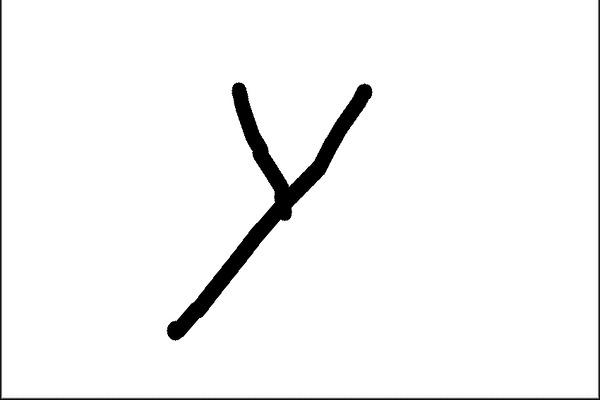Y: (143, 52, 437, 343)
